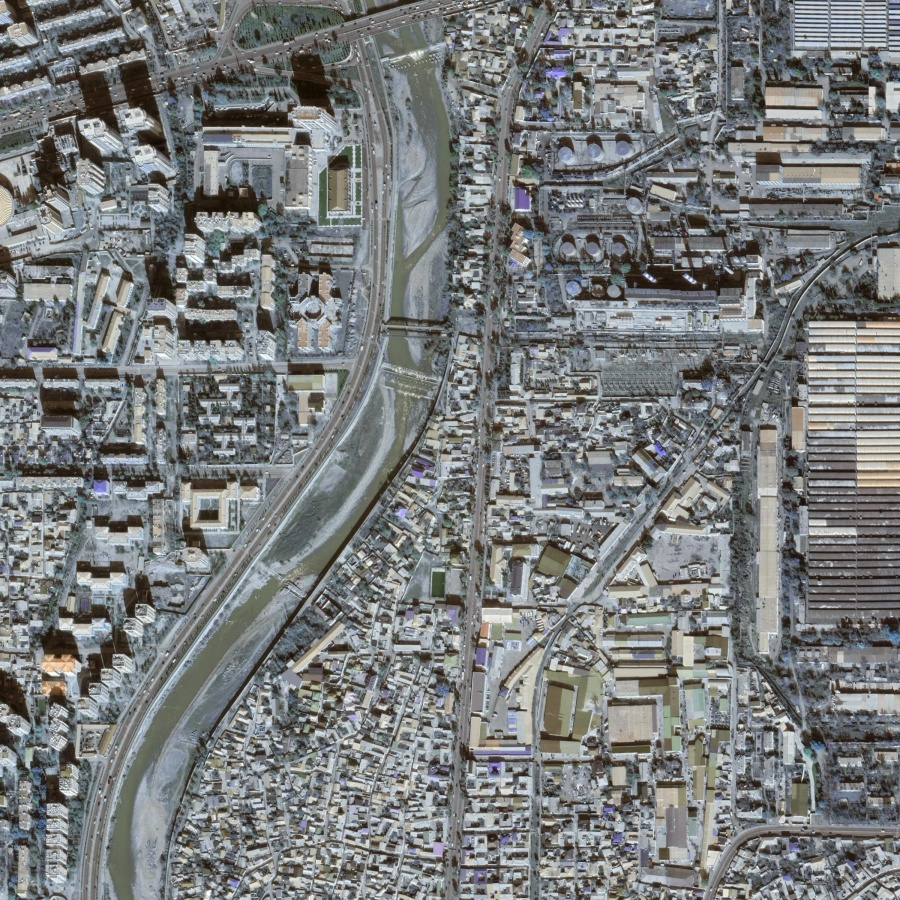PowerPlant: (548, 187, 769, 398)
